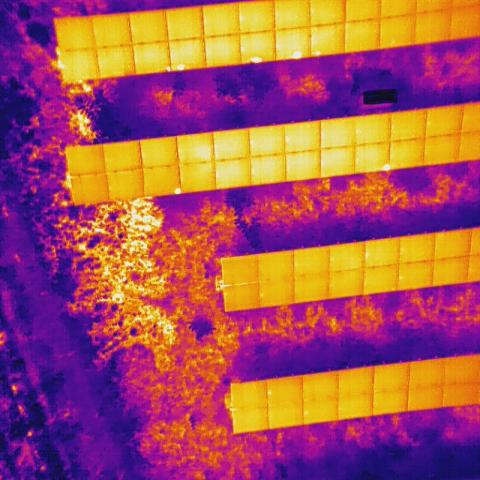fault: (290, 49, 302, 60), (249, 55, 263, 64), (379, 164, 391, 173), (310, 50, 322, 58), (175, 63, 186, 71), (274, 43, 282, 52), (174, 186, 181, 195), (164, 63, 170, 73), (239, 43, 245, 53)
